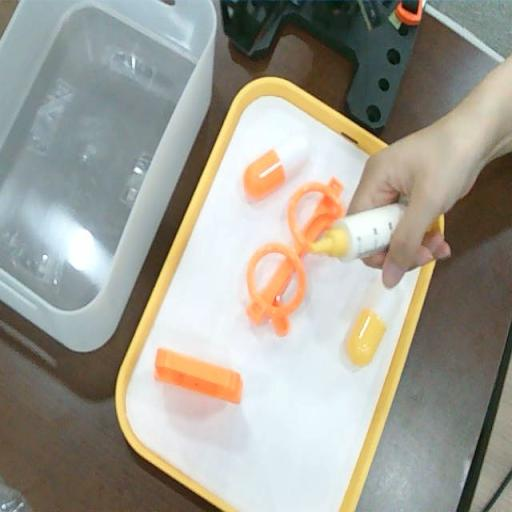hospital: (352, 139, 485, 292)
